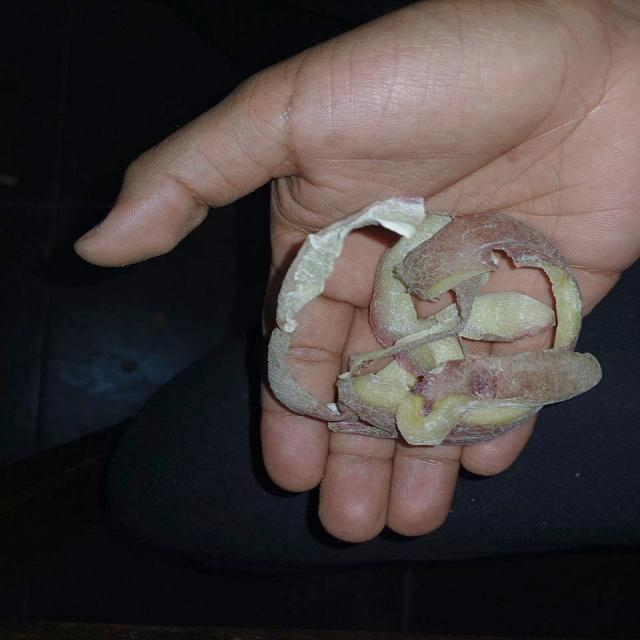organic: (264, 198, 604, 448)
